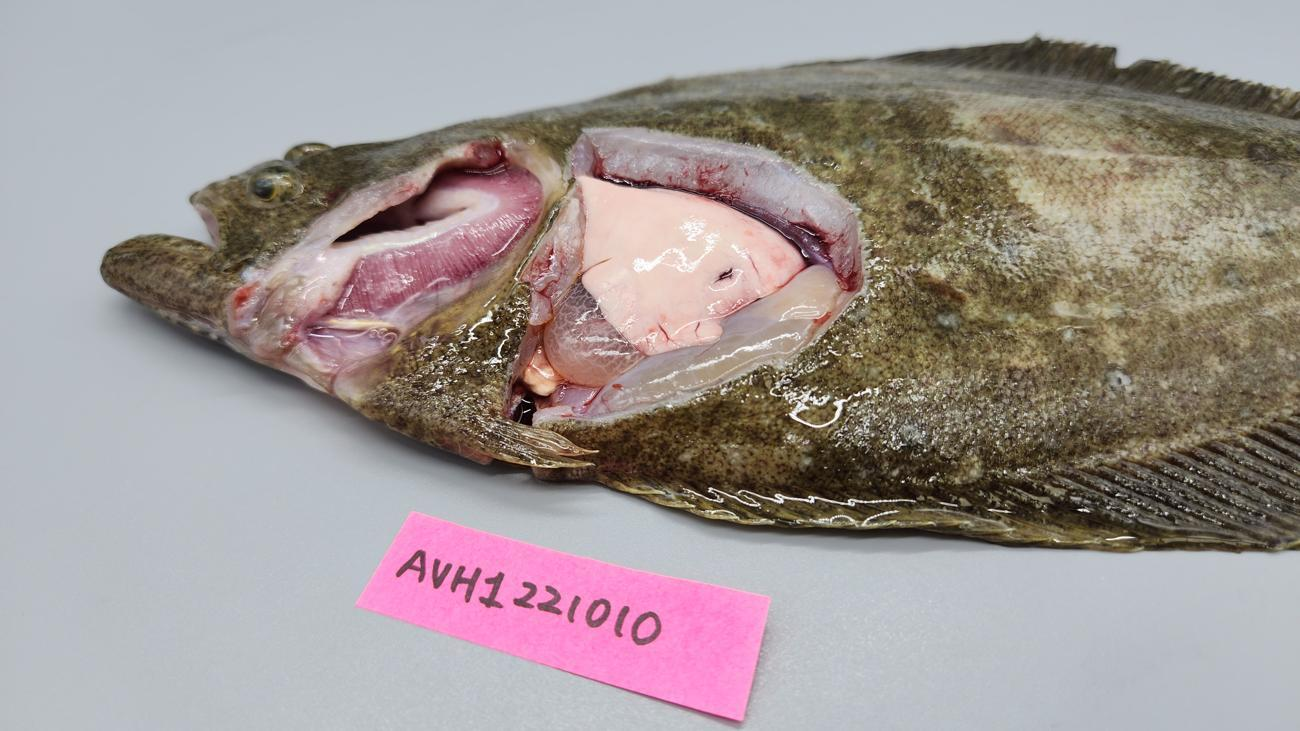VIGIP: (334, 162, 542, 314)
